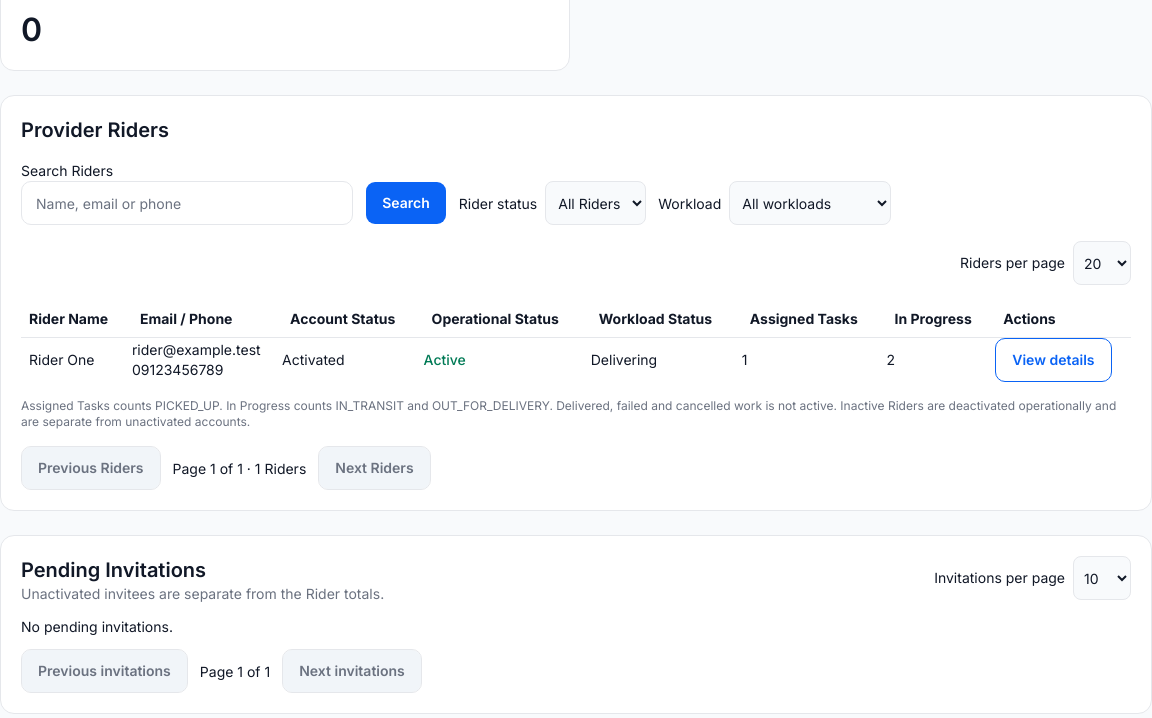
Test case: edits a Rider through the live API, prepopulates fields and refreshes the list
(page scrolled)
Click the button with aria-label "View Rider One details". click: point(1053, 360)
box: x1=995 y1=338 x2=1112 y2=382
(page scrolled)
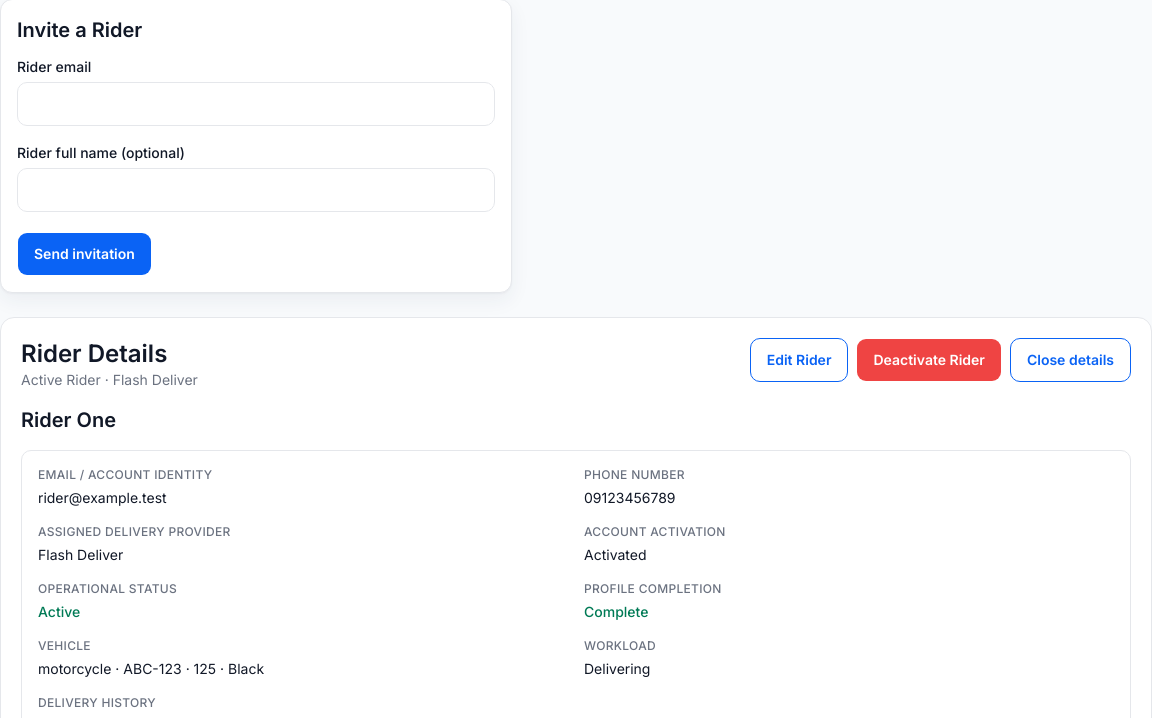
Click the button "Edit Rider". click: point(799, 360)
box: x1=750 y1=338 x2=848 y2=382
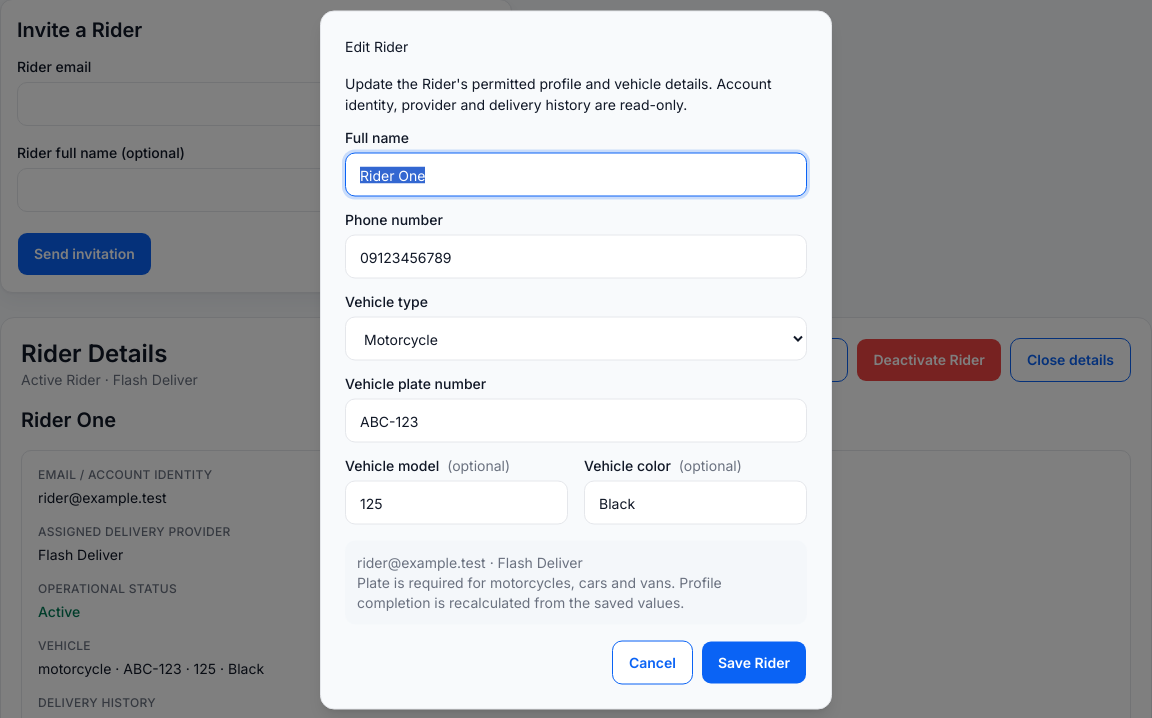
Now the field labelled "Full name" holds "Rider One"
Now the field labelled "Vehicle plate number" holds "ABC-123", box x1=345 y1=398 x2=807 y2=442
Replace the text in the field labelled "Full name" with "Rider Updated". click: point(576, 174)
box: x1=345 y1=152 x2=807 y2=196
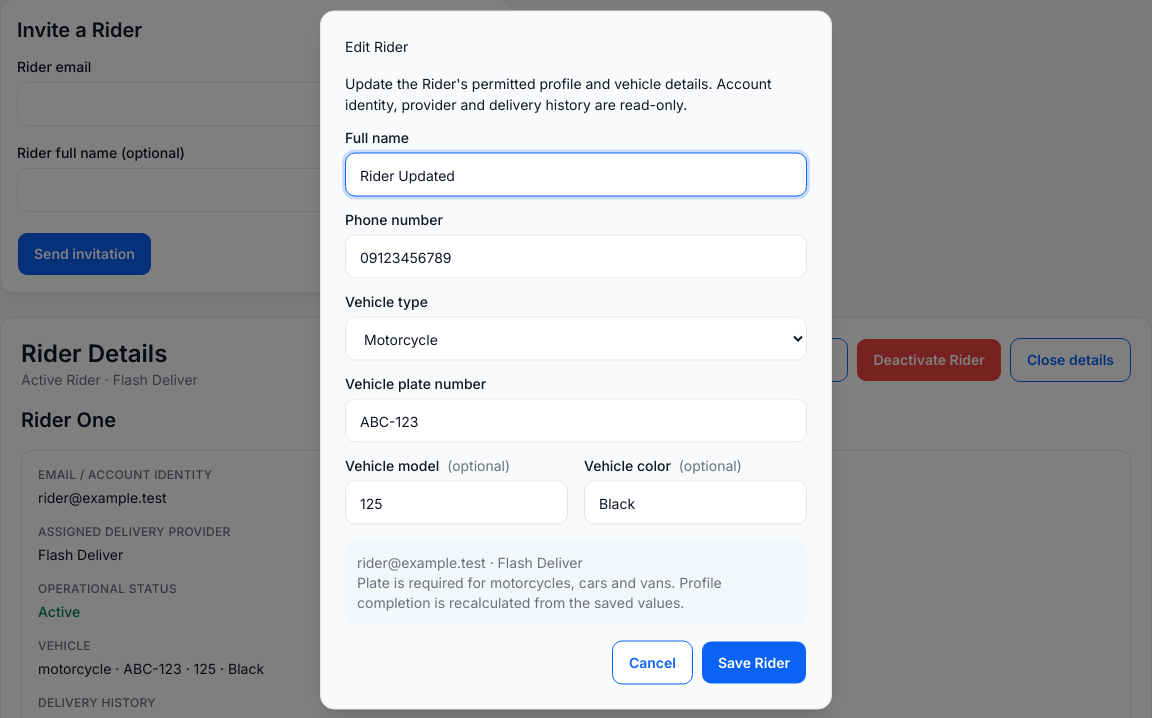
Click the button "Save Rider". click: point(754, 662)
box: x1=701 y1=640 x2=807 y2=684
(page scrolled)
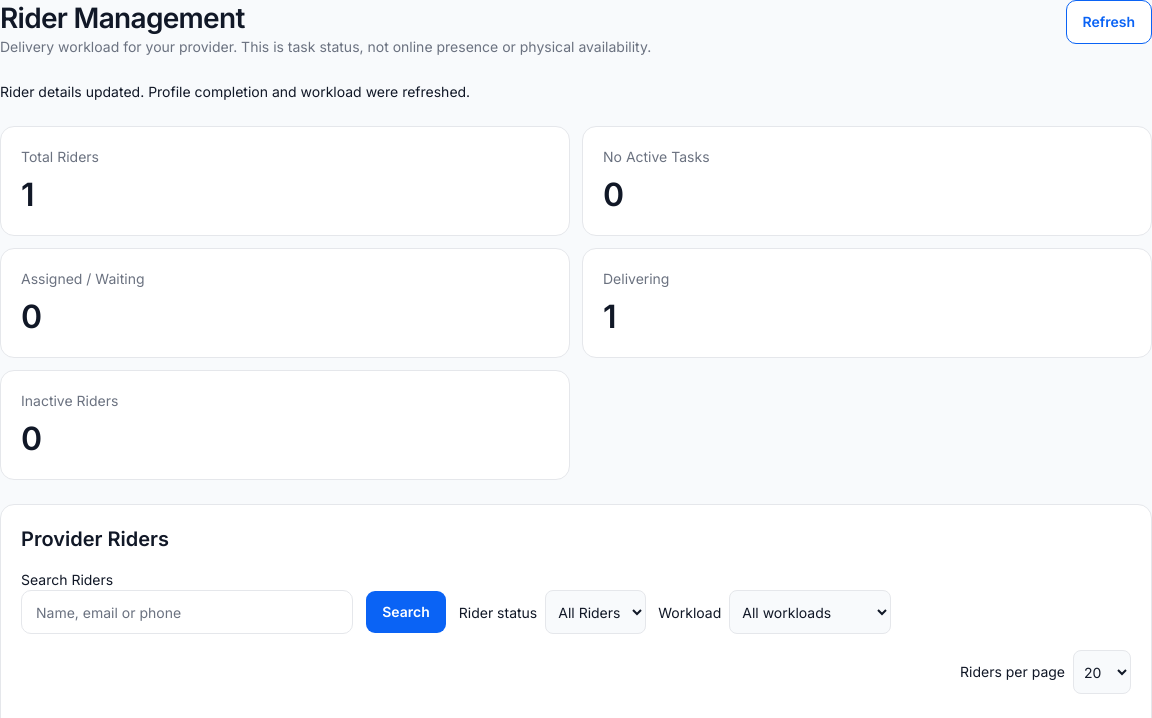
Now the text "Rider details updated. Profile completion and workload were refreshed." is shown, box x1=0 y1=83 x2=470 y2=100
Now the dialog is gone
